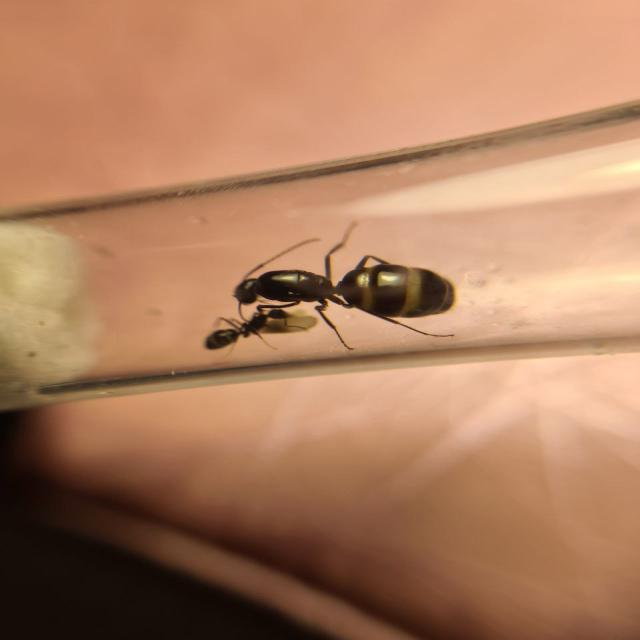Minor: (202, 304, 286, 355)
Queen: (235, 219, 454, 350)
